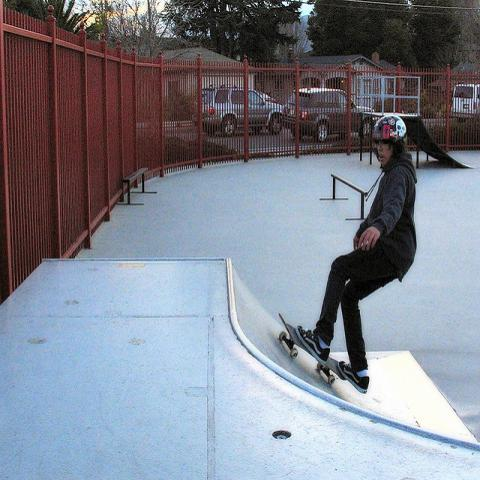car: (283, 88, 375, 142), (201, 86, 283, 129), (450, 84, 480, 118)
